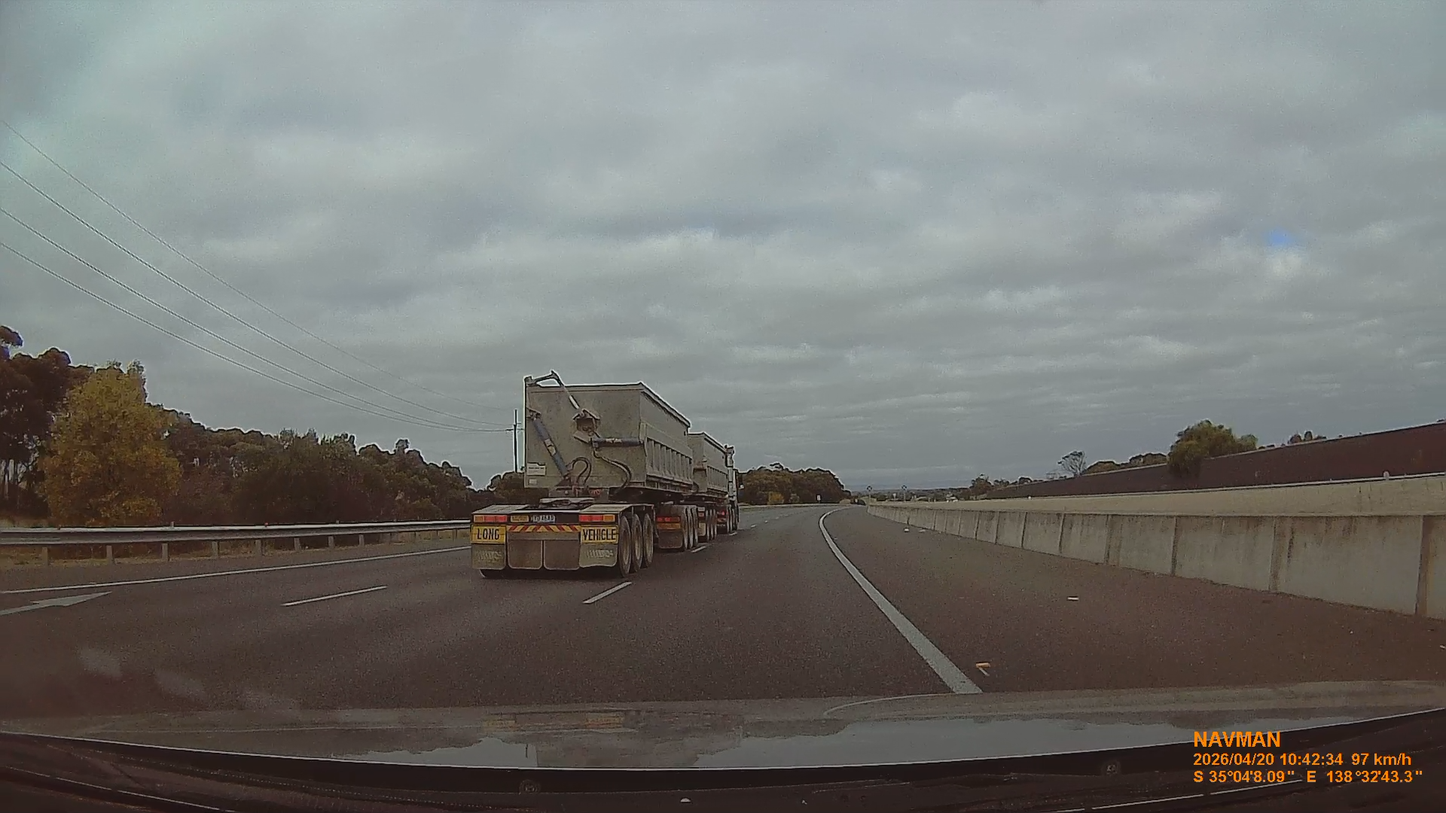road barriers: (846, 473, 1445, 617), (2, 521, 461, 561)
